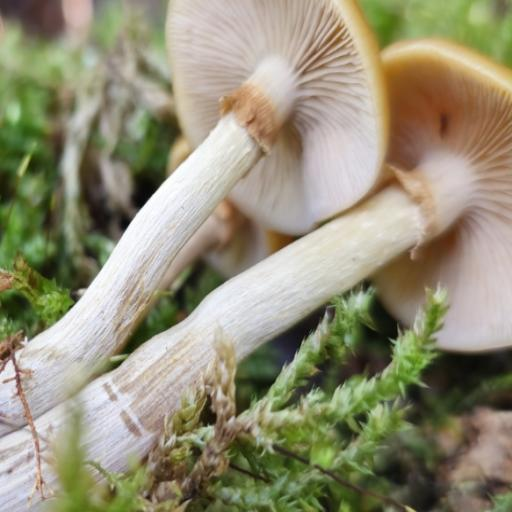mushroom: (38, 1, 511, 470)
